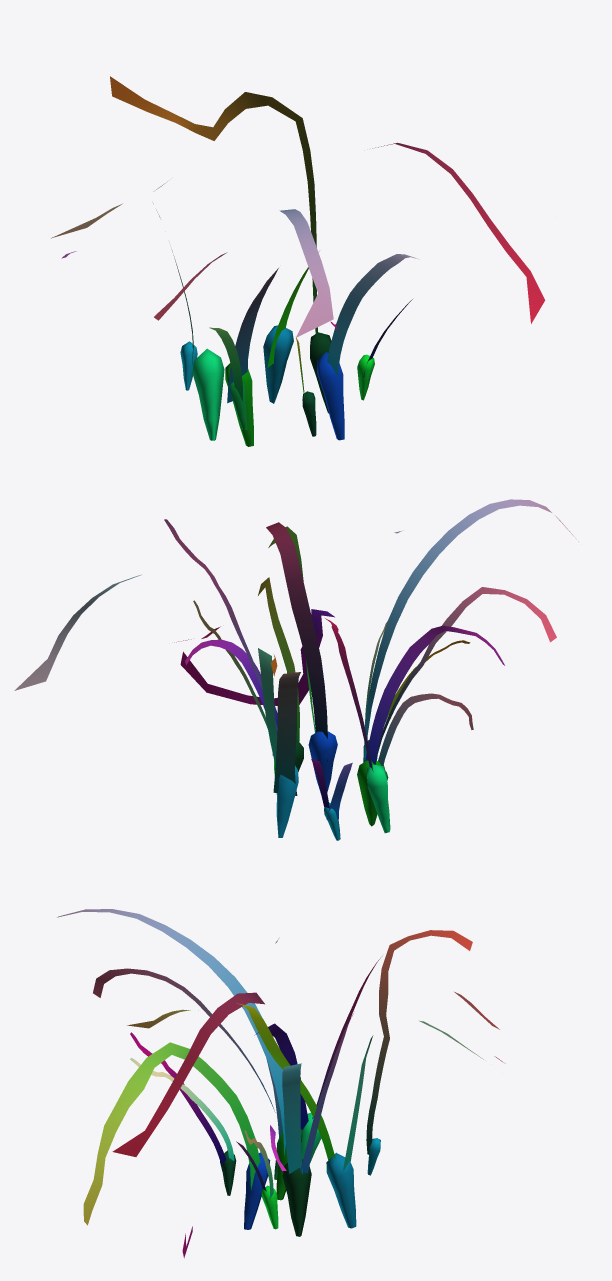
File: Ribbon_Grass_tbdpec3r_High_tbdpec3r_VarF_LOD0.glb
3 renders of one model, top to bottom at view 1: azimuth 30°, elevation 25°; view 2: azimuth 150°, elevation 25°; view 3: azimuth 270°, elevation 25°, orthographic. The views are drawn at different scales.
Parts seen in each view (by area): view 1: _3b42_VarF_LOD0; view 2: _3b42_VarF_LOD0; view 3: _3b42_VarF_LOD0.
Boxes of the visible parts, x1,y1,x2,y2 form: _3b42_VarF_LOD0: (51, 76, 545, 446); _3b42_VarF_LOD0: (14, 499, 578, 840); _3b42_VarF_LOD0: (57, 909, 505, 1258).
Bounding box in the file's own units: 0.3142 × 0.1961 × 0.3346.
